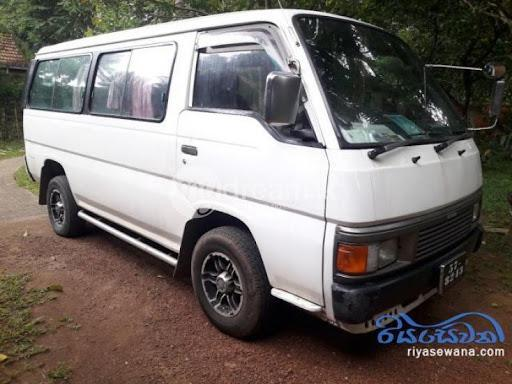Van: (26, 14, 495, 337)
